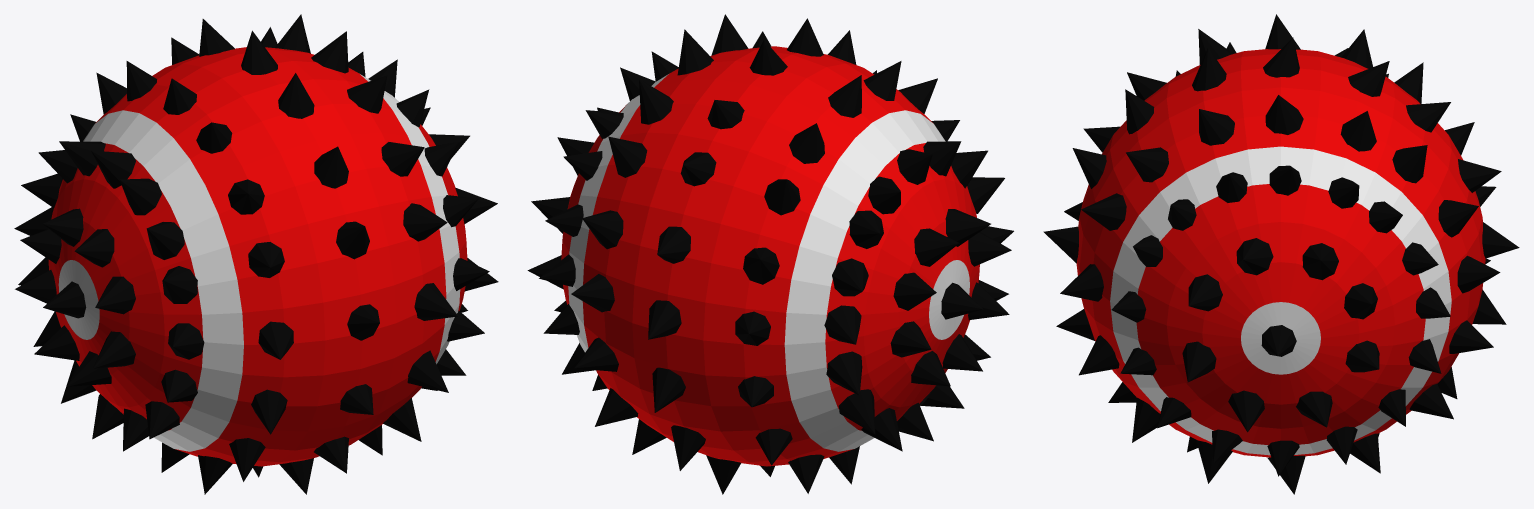
File: body-ball2 зомби.dae.dae
3 views of the same model, side by side, from view 1: azimuth 30°, elevation 25°; view 2: azimuth 150°, elevation 25°; view 3: azimuth 270°, elevation 25° (orthographic). The views are drawn at different scales.
Visible parts, largest first — view 1: Сфера; view 2: Сфера; view 3: Сфера.
Boxes of the visible parts, left/top/right/bottom form: Сфера: left=14, top=14, right=498, bottom=494; Сфера: left=527, top=14, right=1013, bottom=494; Сфера: left=1043, top=14, right=1519, bottom=494.
Bounding box in the file's own units: 2.34 × 2.32 × 2.32.
